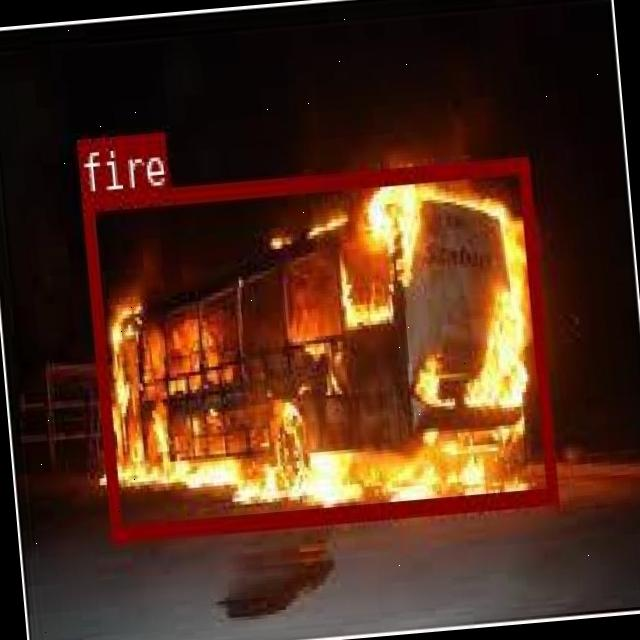fire: (80, 155, 556, 538)
